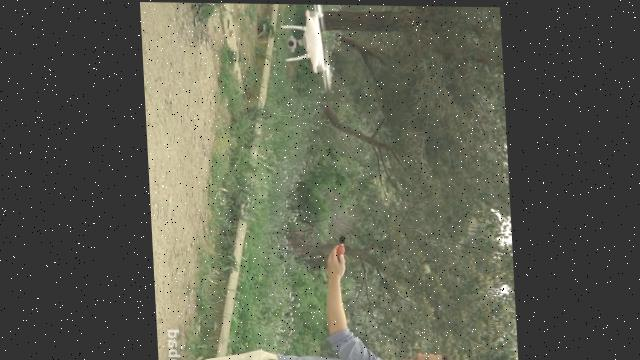drone: (279, 3, 337, 91)
